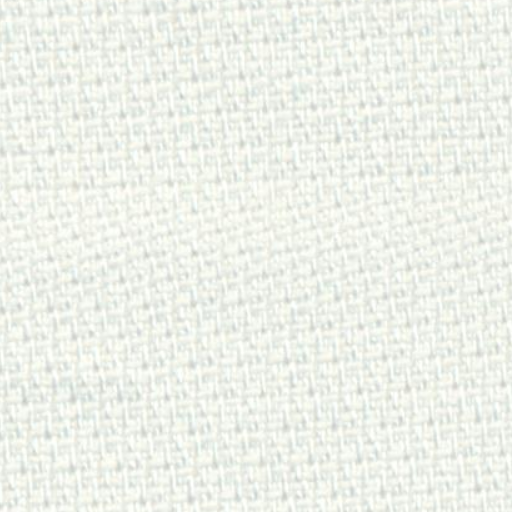TuoSha: (16, 146, 486, 420)
